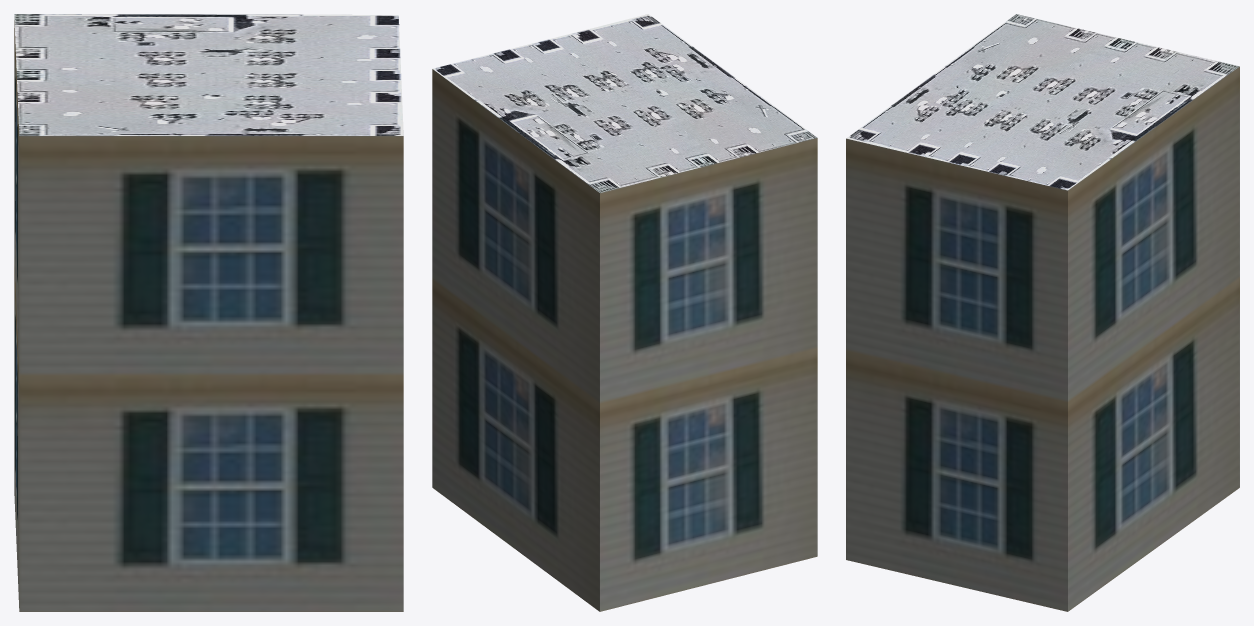
Rendered from ResTex__2436.fbx.
The picture shows the model from 3 angles, left to right: view 1: azimuth 30°, elevation 25°; view 2: azimuth 150°, elevation 25°; view 3: azimuth 270°, elevation 25°; orthographic projection. The views are drawn at different scales.
Parts seen in each view (by area): view 1: CityEngineMaterial_7_m, CityEngineMaterial_2_m; view 2: CityEngineMaterial_7_m, CityEngineMaterial_2_m; view 3: CityEngineMaterial_7_m, CityEngineMaterial_2_m.
Part boxes in pixels (x1,y1,x2,y2): CityEngineMaterial_7_m: [14, 20, 403, 611]; CityEngineMaterial_2_m: [14, 14, 403, 135]; CityEngineMaterial_7_m: [432, 69, 817, 611]; CityEngineMaterial_2_m: [432, 14, 817, 192]; CityEngineMaterial_7_m: [846, 66, 1239, 611]; CityEngineMaterial_2_m: [846, 14, 1239, 190].
Bounding box in the file's own units: 5.39 × 6 × 5.08.
Materials: 2 (2 with a texture image).
